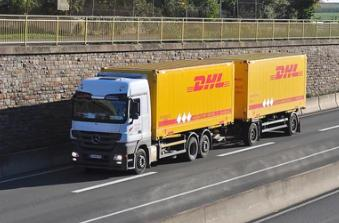vehicle: (70, 52, 307, 174)
